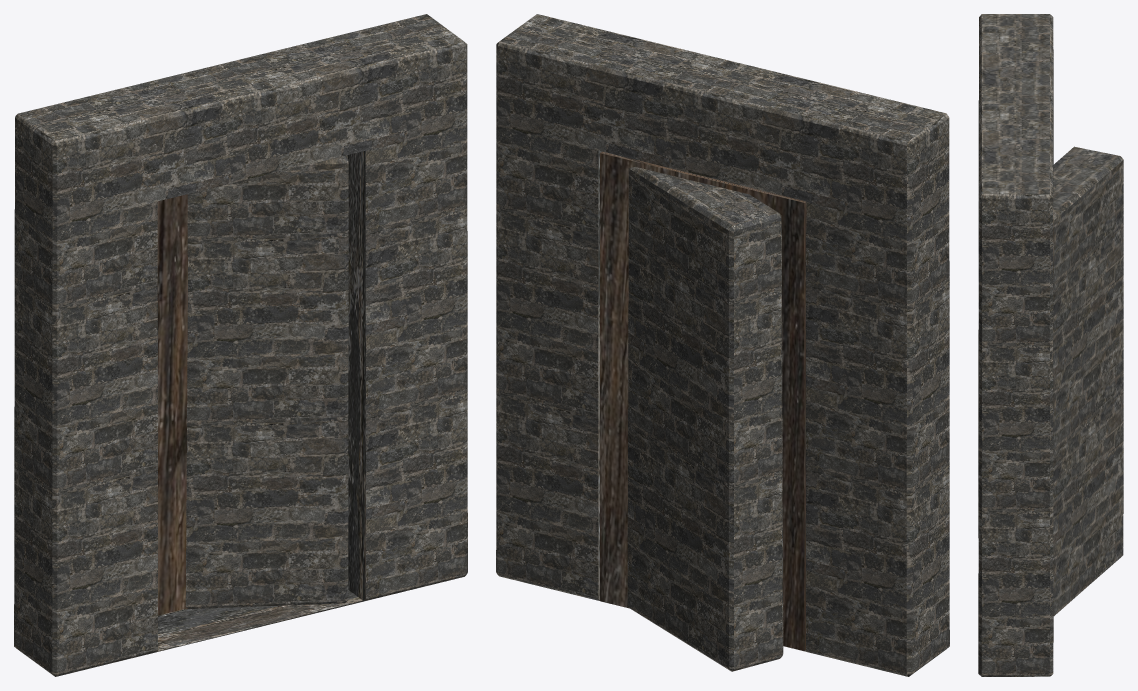
File: secret-stone-door-v01.glb
3 renders of one model, left to right at view 1: azimuth 30°, elevation 25°; view 2: azimuth 150°, elevation 25°; view 3: azimuth 270°, elevation 25°, orthographic. The views are drawn at different scales.
Parts seen in each view (by area): view 1: secret-stone-door; view 2: secret-stone-door; view 3: secret-stone-door.
Part boxes in pixels (x1,y1,x2,y2): secret-stone-door: [14, 14, 467, 676]; secret-stone-door: [496, 14, 949, 676]; secret-stone-door: [978, 14, 1123, 676].
Bounding box in the file's own units: 2.6 × 3.21 × 0.8738.
2 materials, 2 textured.
